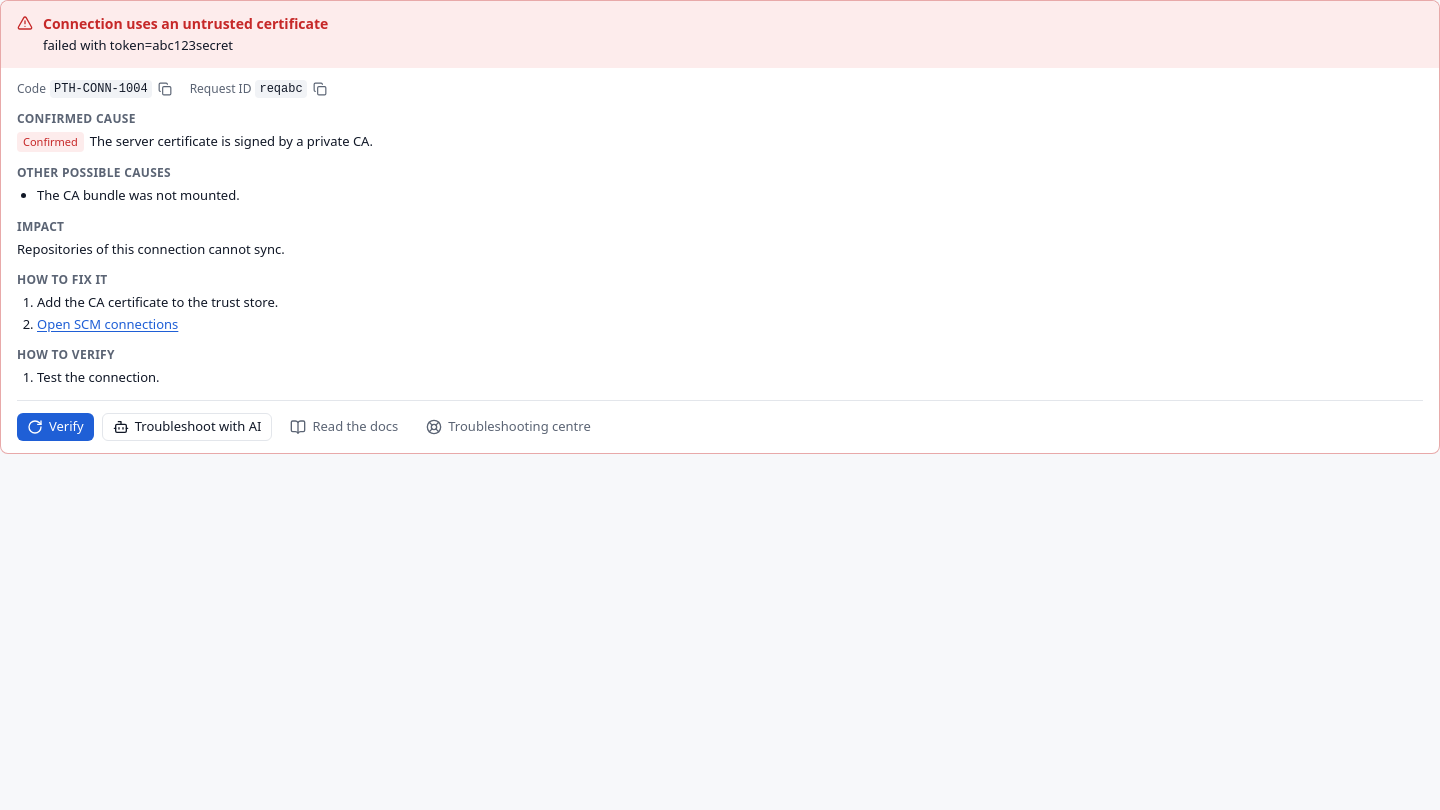
Scenario: ErrorPanel › Troubleshoot with AI sends error_code (not the slug) and labels an AI answer
What coordinates should you click on to do the following:
click the button "Troubleshoot with AI"
I would click on:
 (187, 426)
Its box is [102, 412, 272, 440].
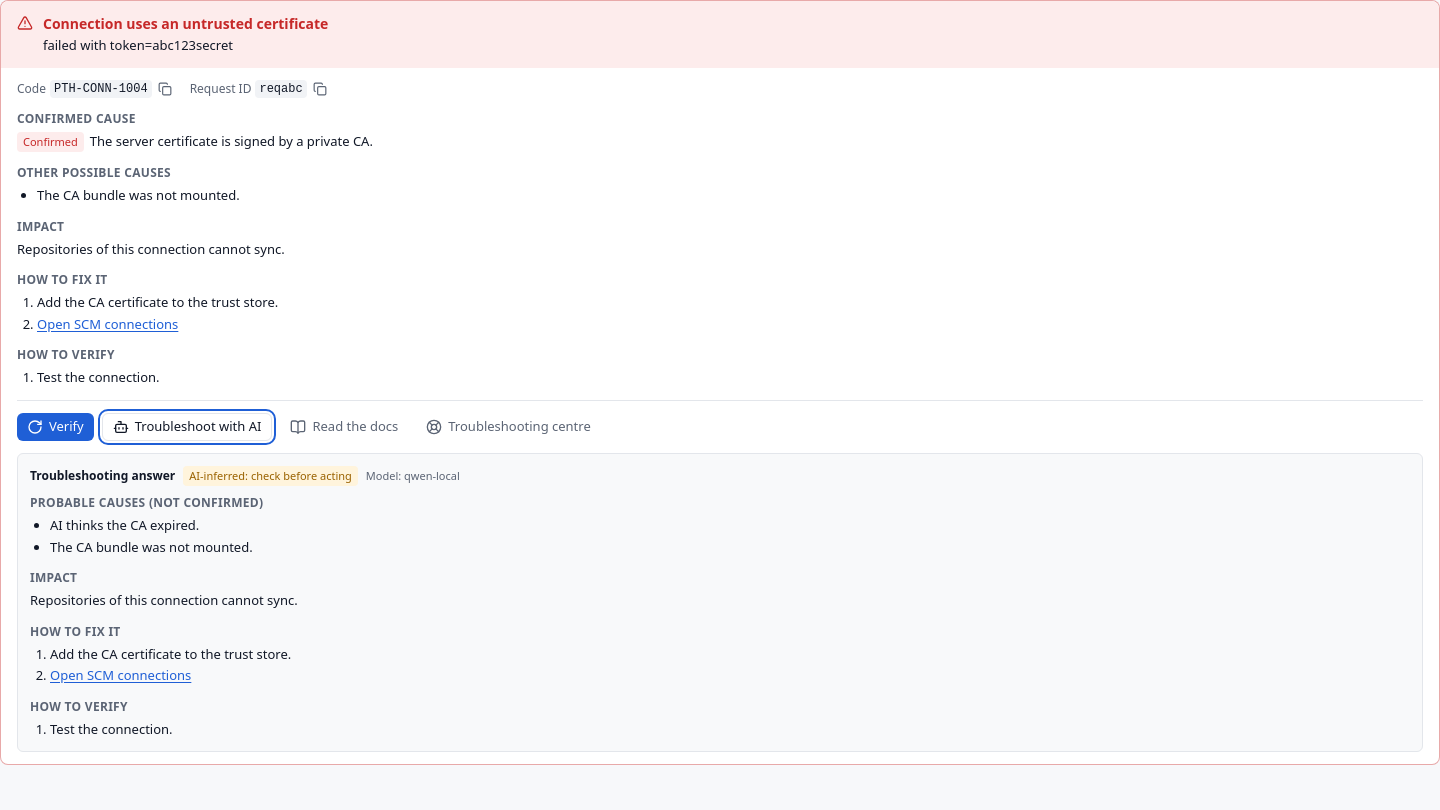
Result: the text "AI-inferred: check before acting" is shown at [183, 466, 358, 486]
Result: the list item "AI thinks the CA expired." is shown at [50, 516, 199, 534]
Result: the text "Model: qwen-local" is shown at [366, 468, 460, 484]
